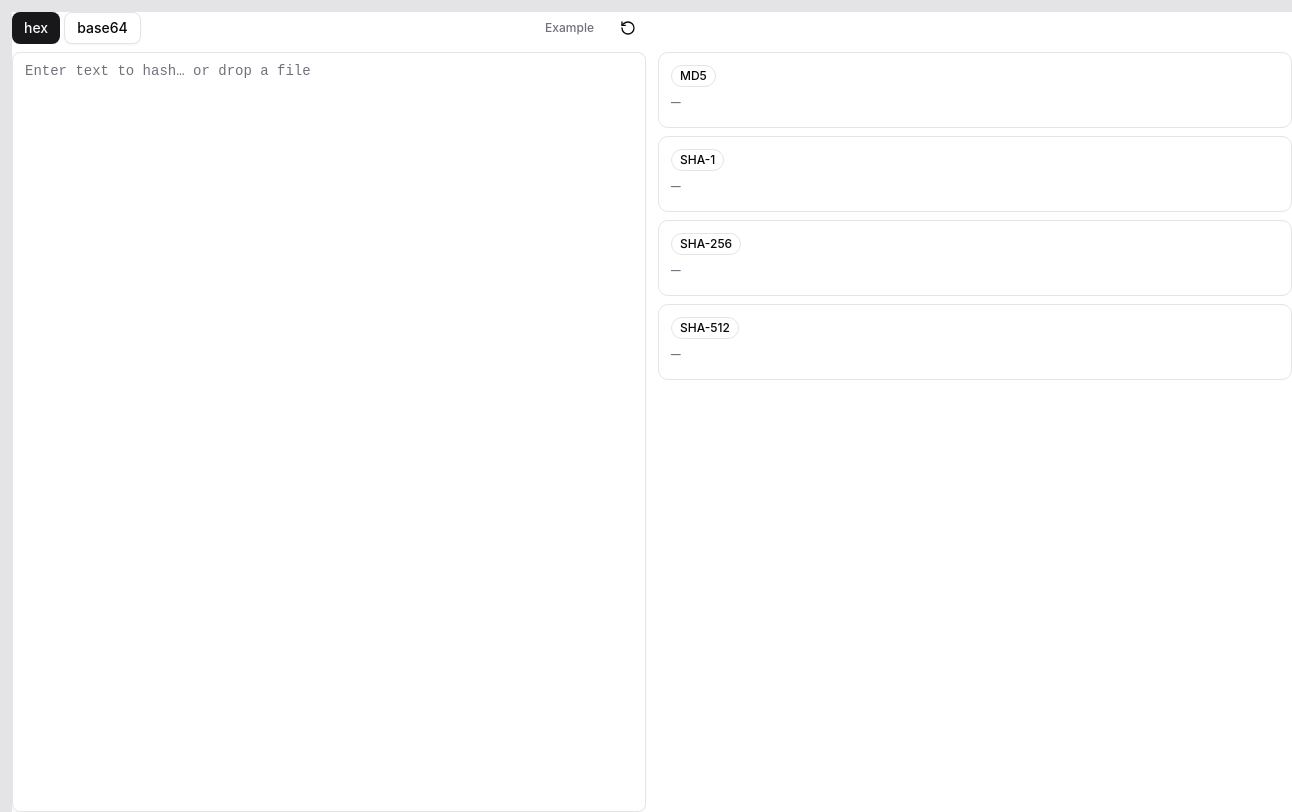
Example fills the input and shows hex hashes
The image size is (1292, 812).
Click the button "Example": [570, 28] box [533,12,606,44]
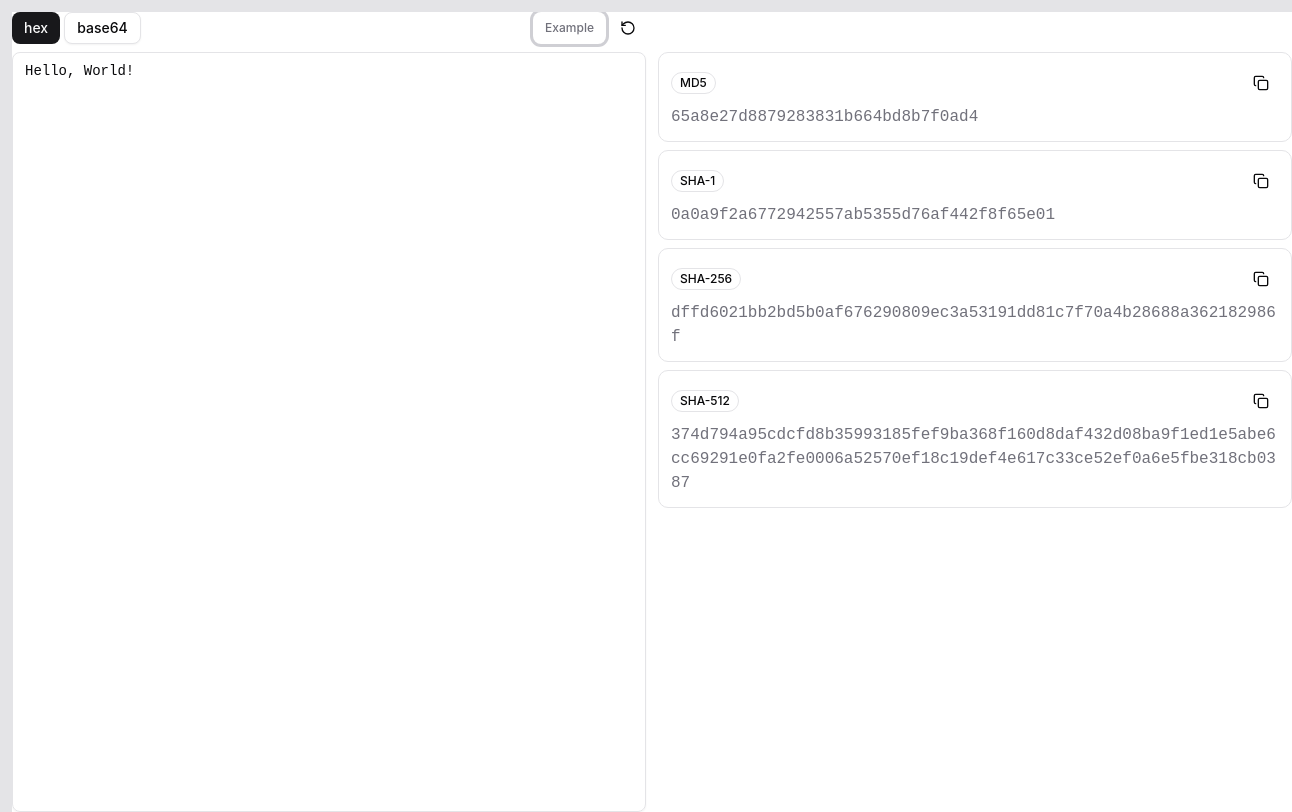
Expected: the text "65a8e27d8879283831b664bd8b7f0ad4" is shown, [671,108,978,126]
